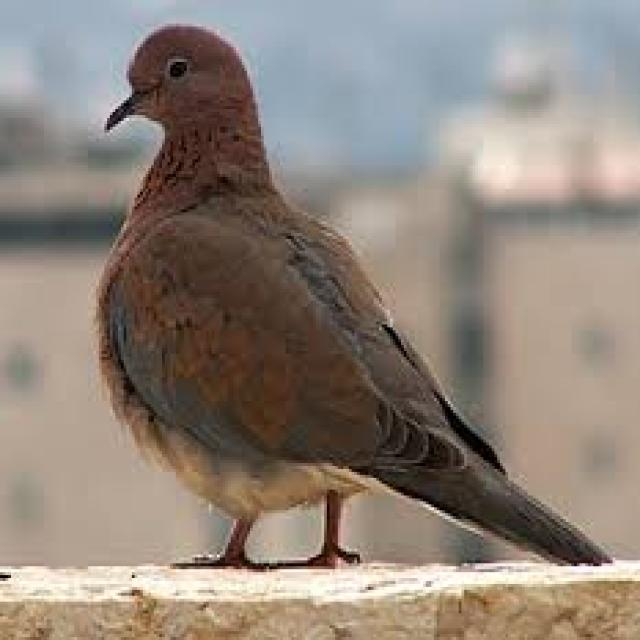pigeon: (86, 15, 598, 589)
